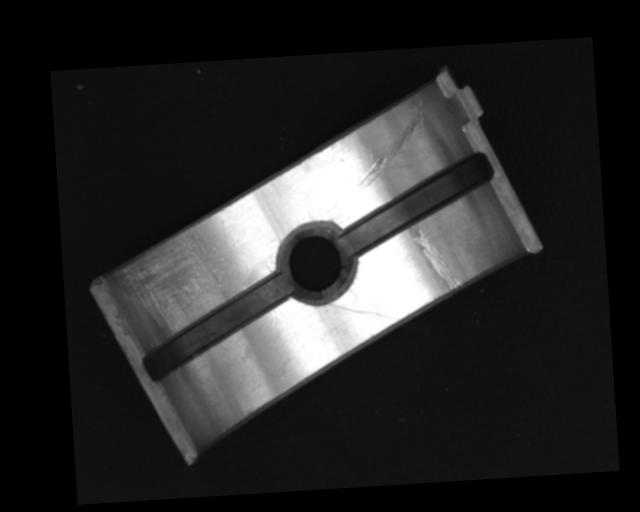gap: (137, 272, 296, 381), (338, 154, 497, 255)
hole: (273, 219, 360, 308)
nick: (352, 95, 429, 189), (411, 223, 462, 294), (327, 299, 401, 325)
scratch: (107, 224, 235, 336)
